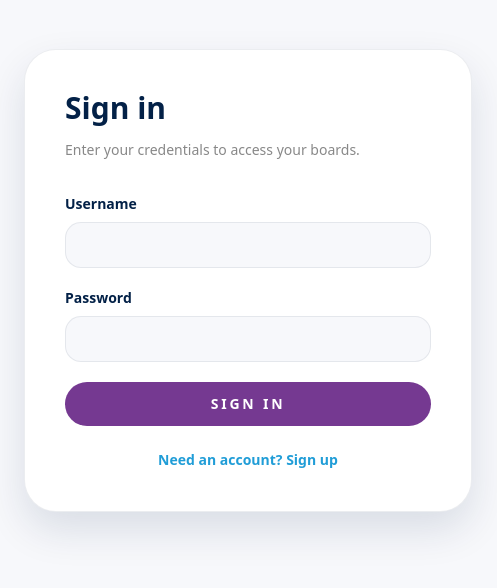
Test case: LoginGate › shows error on invalid credentials
Check: the heading "Sign in" is shown, box [65,86,166,128]
In the field labelled "Username": x=248, y=244 [65,222,431,268], type "bad"
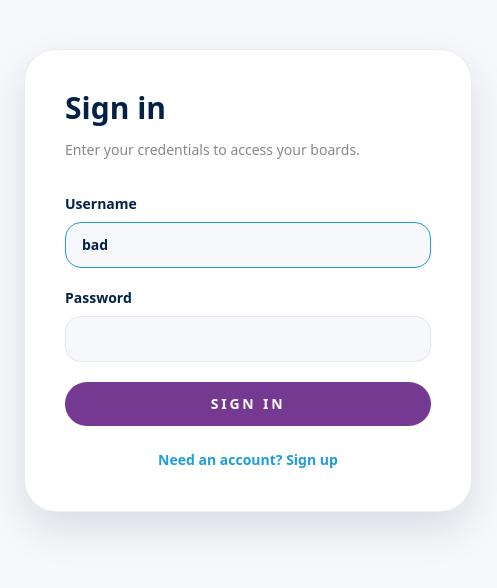
In the password field labelled "Password": x=248, y=338 [65,316,431,362], type "creds"
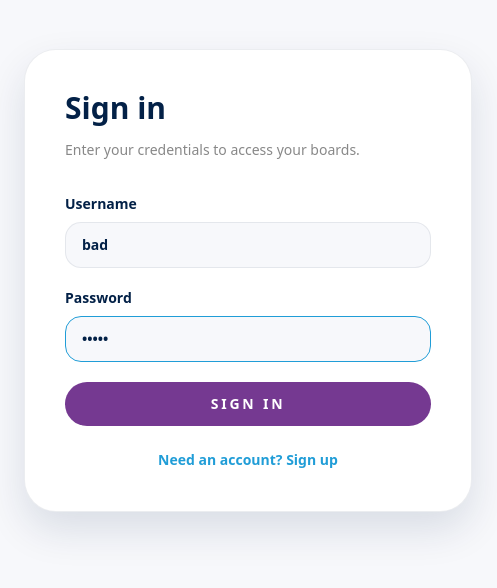
Click the button "Sign in": x=248, y=404 [65,382,431,426]
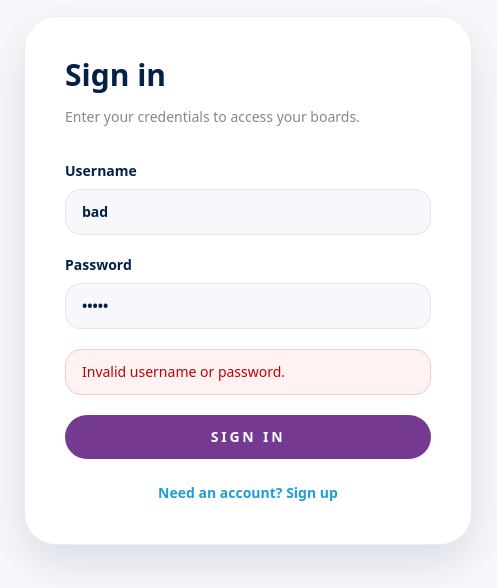
Check: the text "Invalid username or password." is shown, box [65,348,431,394]
